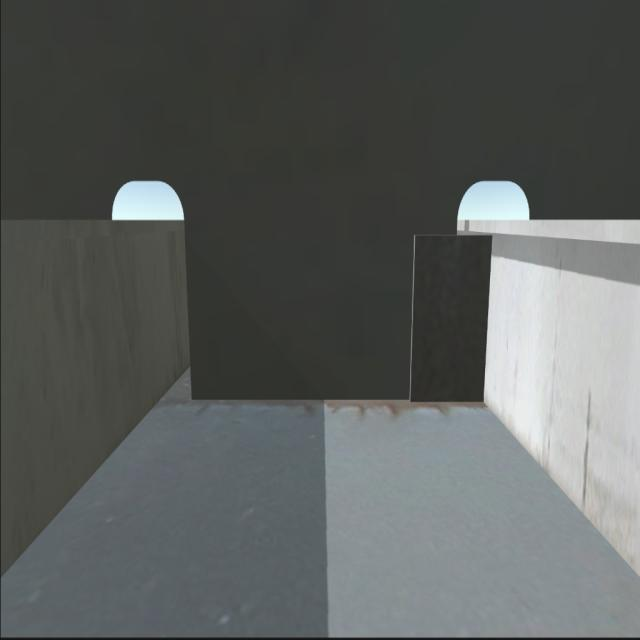fillet_yong_jeop_jang: (188, 387, 488, 406)
longi_yong_jeop_jang: (416, 231, 492, 400), (481, 232, 497, 408)
